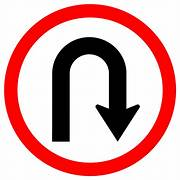back: (7, 3, 178, 175)
